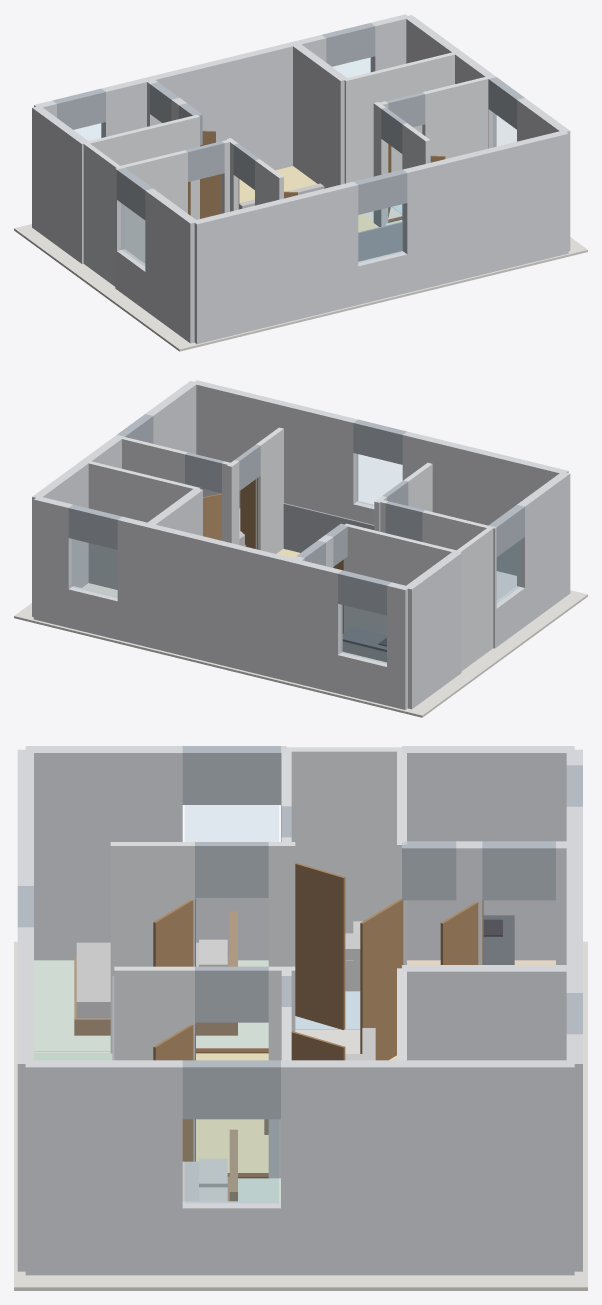
3 views of the same model, one above another, from view 1: azimuth 30°, elevation 25°; view 2: azimuth 150°, elevation 25°; view 3: azimuth 270°, elevation 25° (orthographic). The views are drawn at different scales.
Parts seen in each view (by area): view 1: wall_post_000_00, wall_post_000_final, wall_002_w3, wall_006_w7, wall_017_w18, wall_post_004_00, wall_016_w17, floor_slab, wall_post_015_final, wall_005_w6, wall_011_w12, wall_post_010_00 (+26 smaller); view 2: wall_002_w3, wall_post_000_final, wall_post_000_00, wall_006_w7, wall_post_004_00, wall_post_001_final, wall_016_w17, wall_011_w12, wall_post_003_final, floor_slab, wall_005_w6, wall_post_003_00 (+29 smaller); view 3: wall_post_007_final, wall_post_007_00, wall_post_004_00, wall_006_w7, wall_005_w6, wall_017_w18, floor_slab, wall_post_008_00, door_leaf_d4, sill_wall_007_win2, wall_post_013_00, room_finish_002_bedroom (+33 smaller).
Part boxes in pixels (x1,y1,x2,y2): wall_post_000_00: (194,181,358,344); wall_post_000_final: (402,130,568,292); wall_002_w3: (147,42,296,170); wall_006_w7: (32,106,89,263); wall_017_w18: (292,43,347,188); wall_post_004_00: (145,188,197,343); wall_016_w17: (343,52,456,183); floor_slab: (14,207,587,351); wall_post_015_final: (422,76,490,158); wall_005_w6: (83,143,121,286); wall_011_w12: (86,115,199,219); wall_post_010_00: (121,150,187,263); wall_002_w3: (146,523,296,682); wall_post_000_final: (192,380,358,519); wall_post_000_00: (402,431,568,575); wall_006_w7: (406,551,461,709); wall_post_004_00: (517,471,570,626); wall_post_001_final: (292,559,342,693); wall_016_w17: (88,460,200,589); wall_011_w12: (343,523,458,634); wall_post_003_final: (33,496,73,627); floor_slab: (14,590,587,717); wall_005_w6: (455,527,493,670); wall_post_003_00: (117,516,150,646); wall_post_007_final: (281,1060,574,1275); wall_post_007_00: (25,1060,182,1275); wall_post_004_00: (25,746,182,960); wall_006_w7: (402,746,574,960); wall_005_w6: (286,747,401,933); wall_017_w18: (402,965,574,1060); floor_slab: (14,941,587,1290); wall_post_008_00: (110,842,194,1053); door_leaf_d4: (295,862,345,1029); sill_wall_007_win2: (182,1201,280,1275); wall_post_013_00: (114,966,194,1161); room_finish_002_bedroom: (34,960,268,1051).
Bounding box in the file's own units: 9.98 × 2.85 × 7.01.
